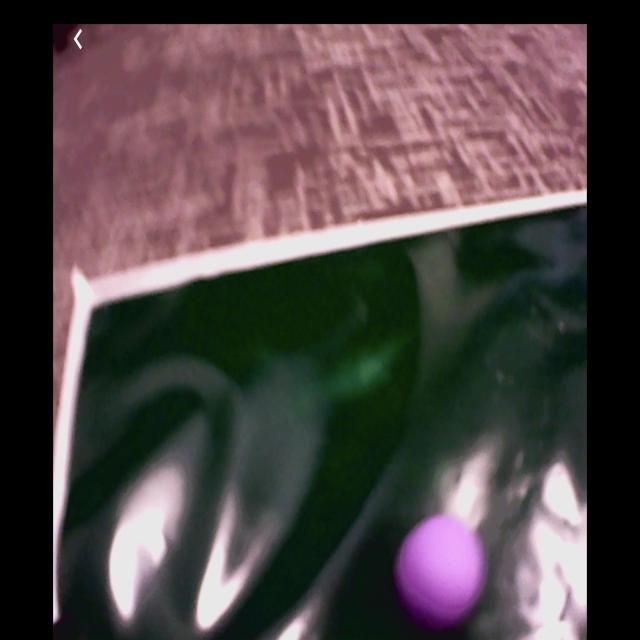ball: (398, 516, 485, 624)
